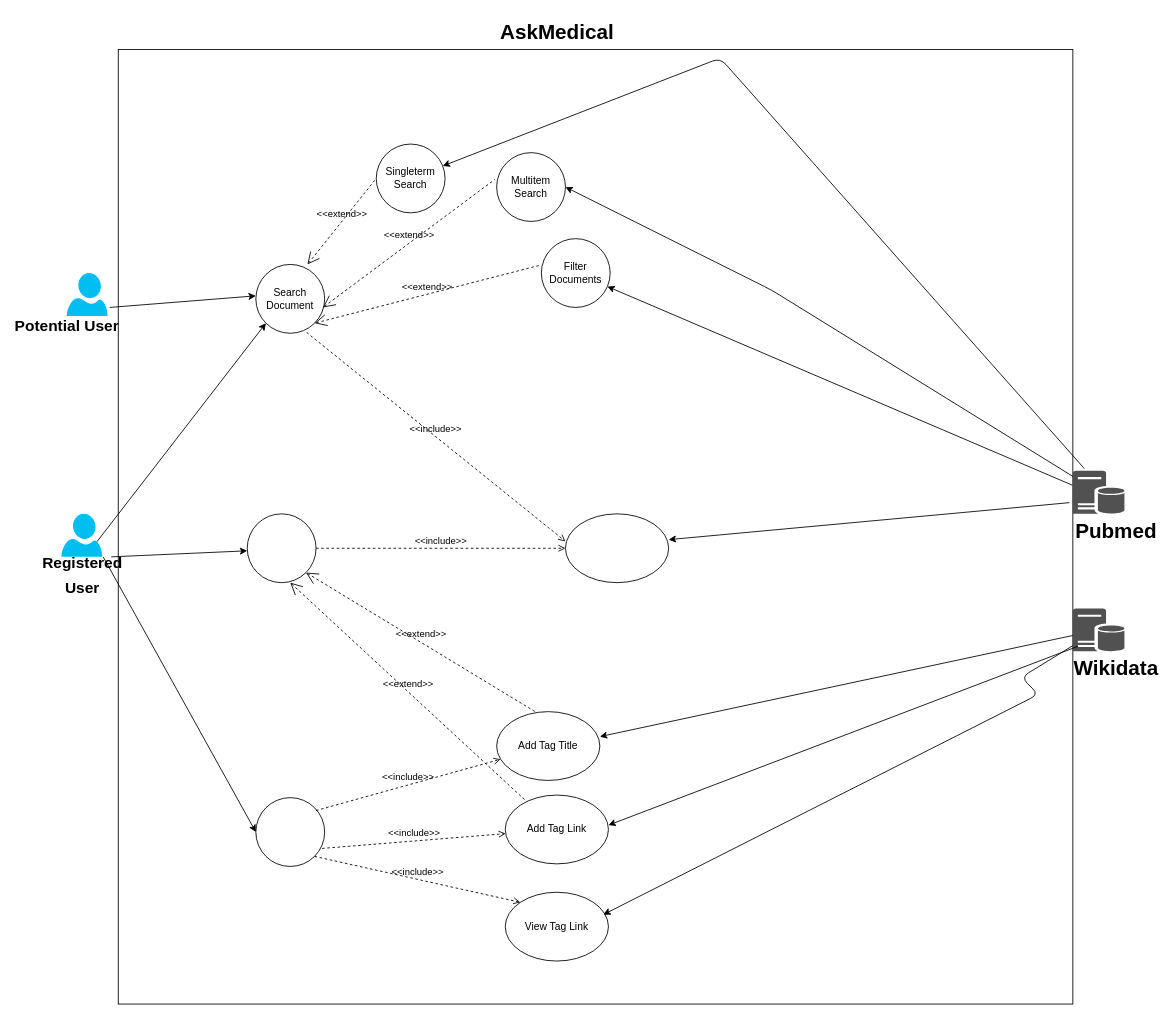
Some shapes in this 1174 by 1019 pixel diagram are drawn without their labels. Each missing label, with the centre of its shape:
Get Abstract, Author and Keyword: point (617, 548)
Tag Document: point (290, 831)
View Document: point (281, 548)
